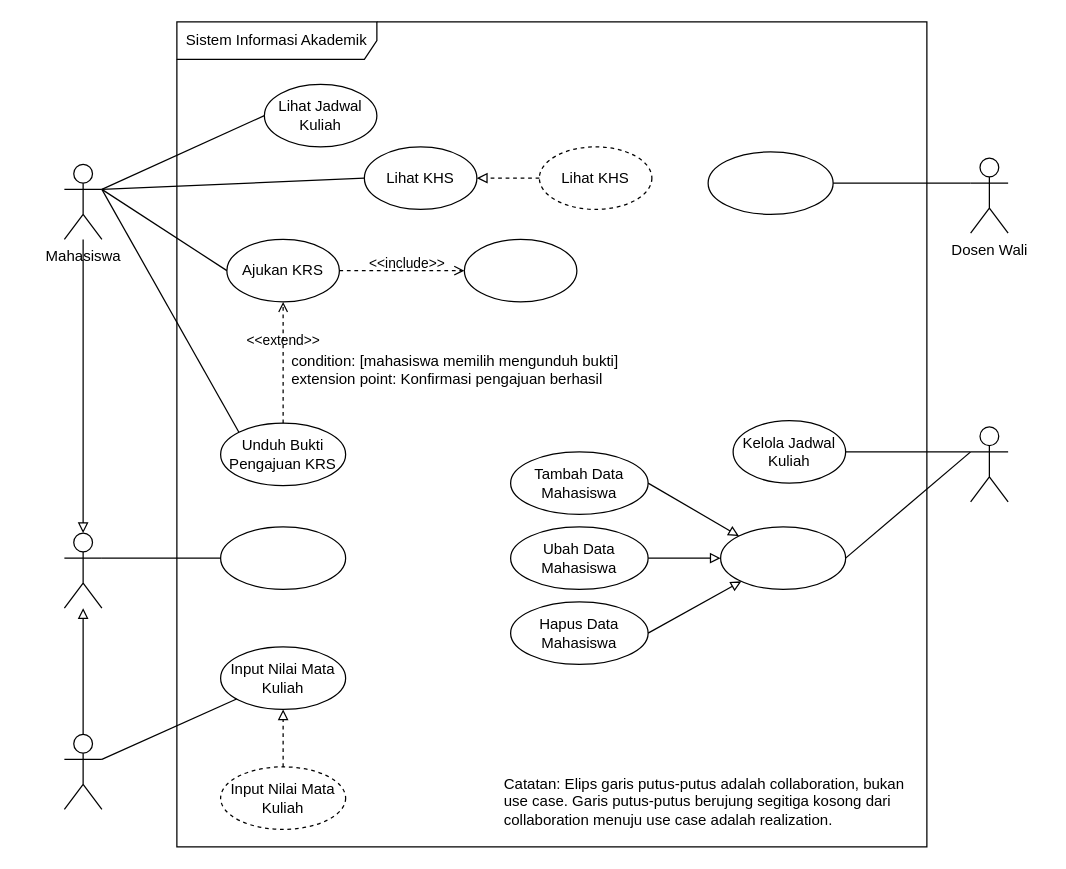
This 1066x869 diagram has some shape labels left out. The shapes that lost their labels are listed below. From the top down, each one's centre as x and y in pixels, then its label:
[770,182]: Proses Keputusan KRS
[520,270]: Validasi KRS
[988,464]: Admin Akademik
[82,570]: Civitas Akademika
[282,557]: Lihat Kalender Akademik
[782,557]: Kelola Data Mahasiswa
[82,771]: Dosen
